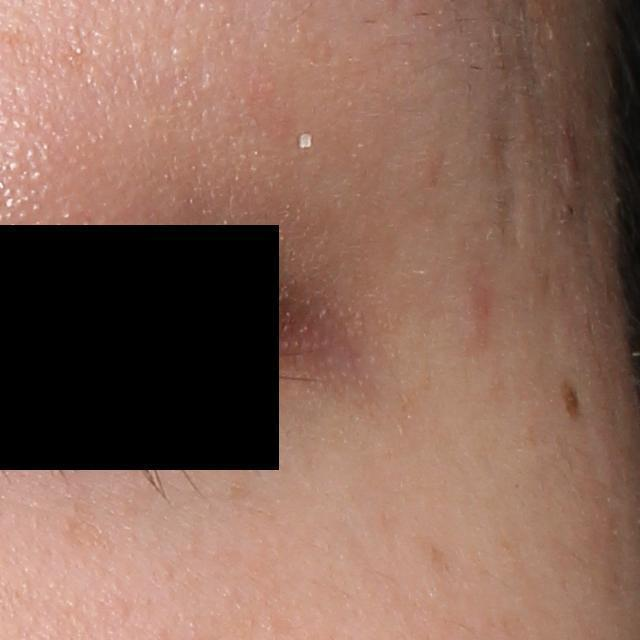atrophic_scar: (488, 96, 536, 254)
melasma: (57, 497, 125, 558)
nevus: (558, 379, 582, 428)
